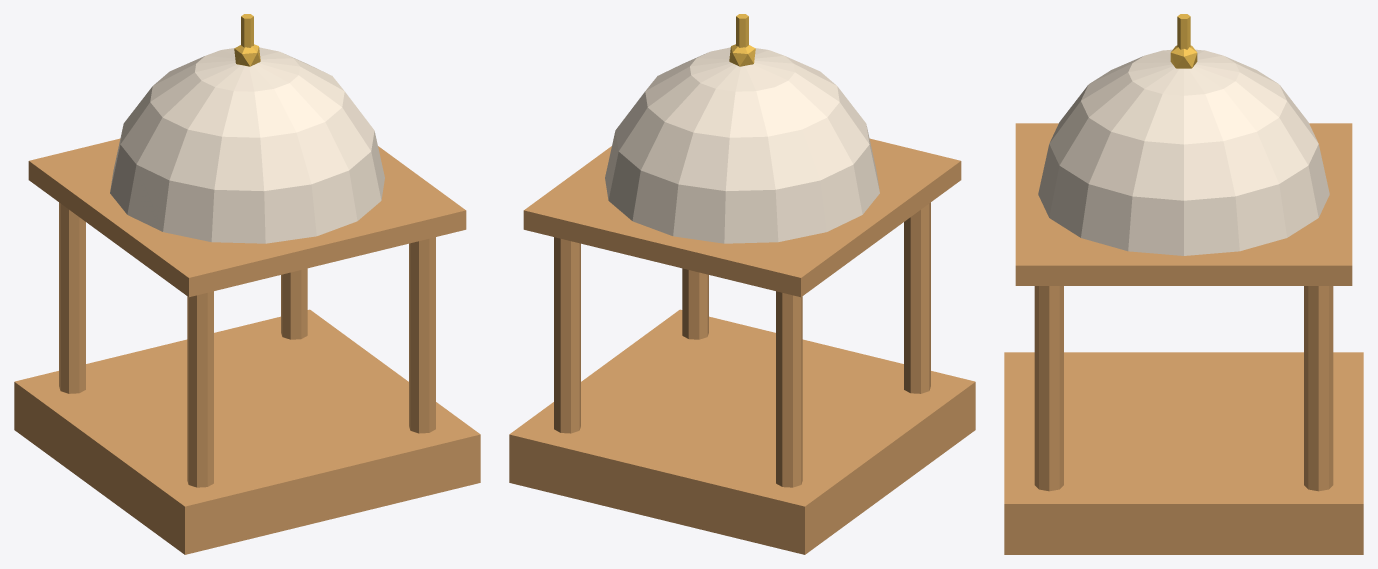
Rendered from chhatri.glb.
3 renders of one model, left to right at view 1: azimuth 30°, elevation 25°; view 2: azimuth 150°, elevation 25°; view 3: azimuth 270°, elevation 25°, orthographic. The views are drawn at different scales.
Parts seen in each view (by area): view 1: chhatri; view 2: chhatri; view 3: chhatri.
Part boxes in pixels (x1,y1,x2,y2): chhatri: [14, 14, 480, 554]; chhatri: [509, 14, 975, 554]; chhatri: [1004, 14, 1363, 554].
Bounding box in the file's own units: 3.2 × 4.55 × 3.2.
